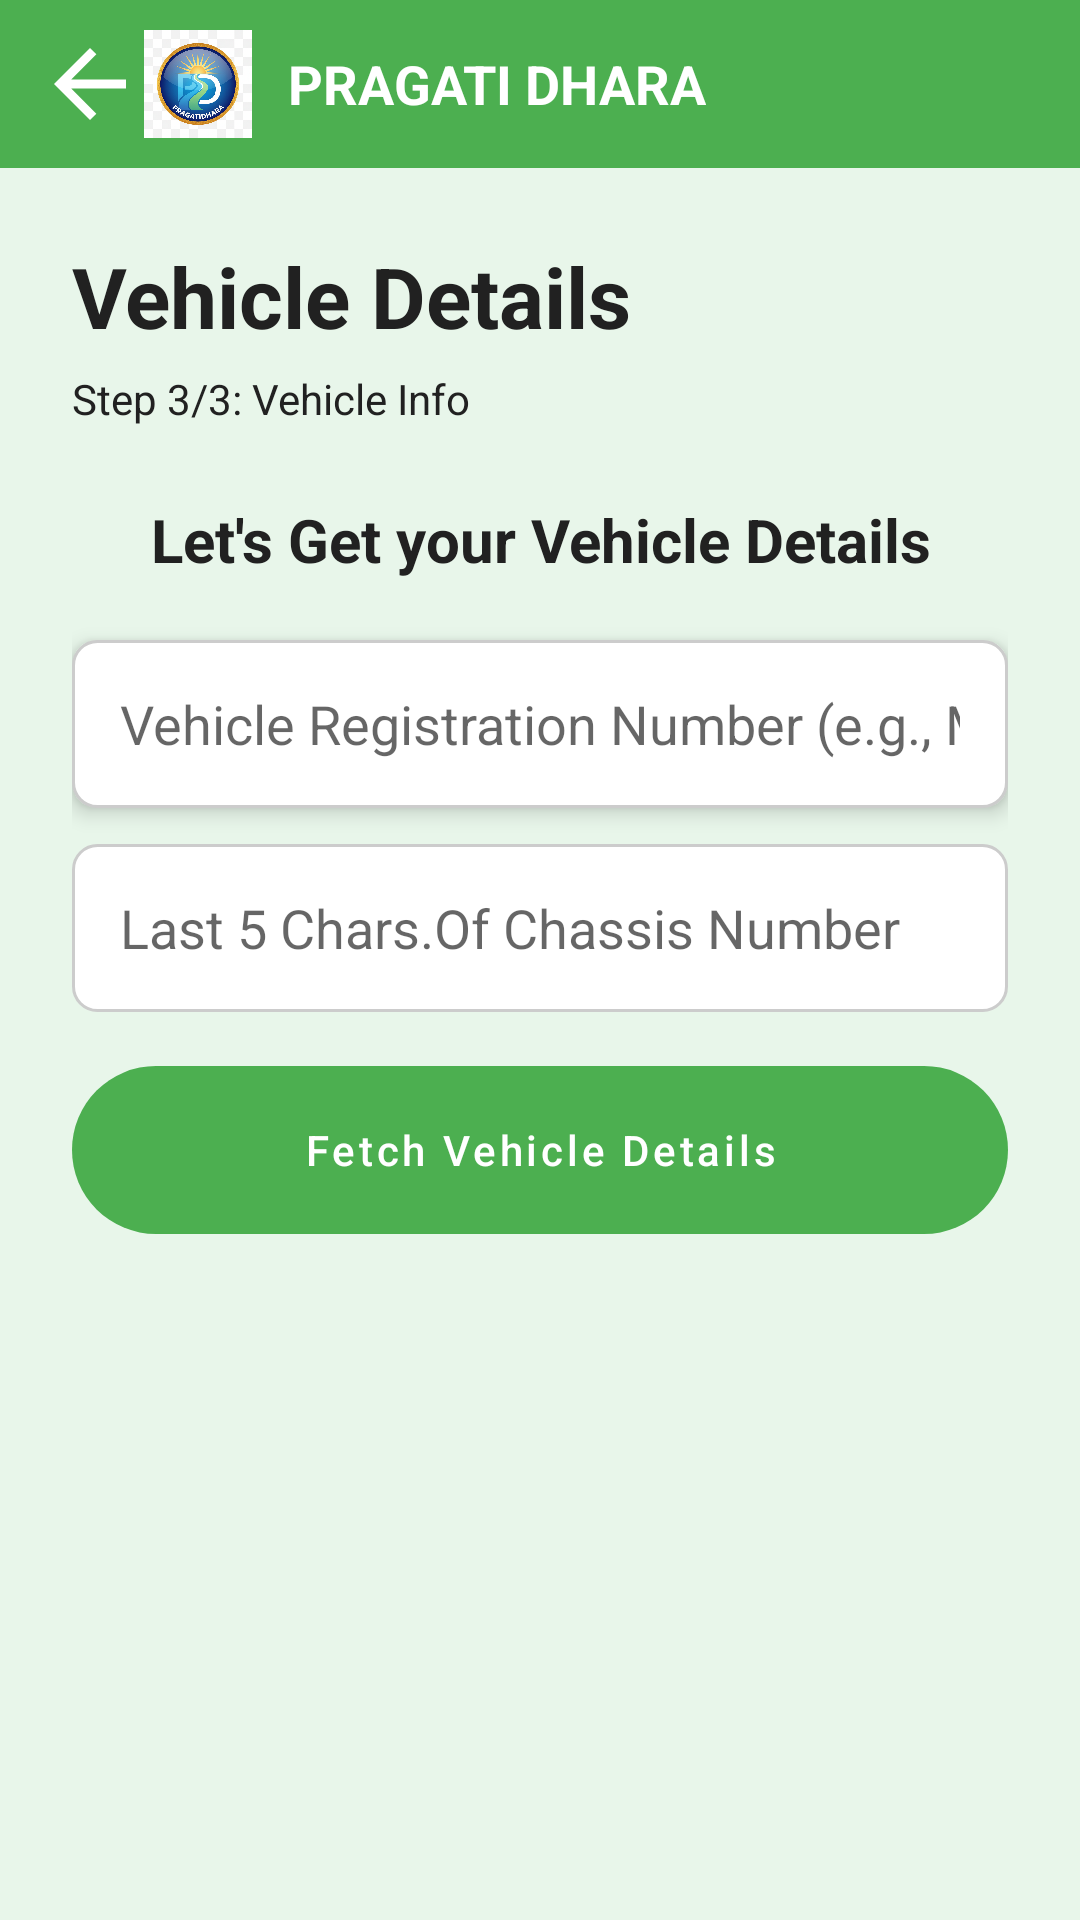

Point at icon controls on the screen. Image size 1080x1920, points as (x=x, y=y).
Back: (x=90, y=84)
